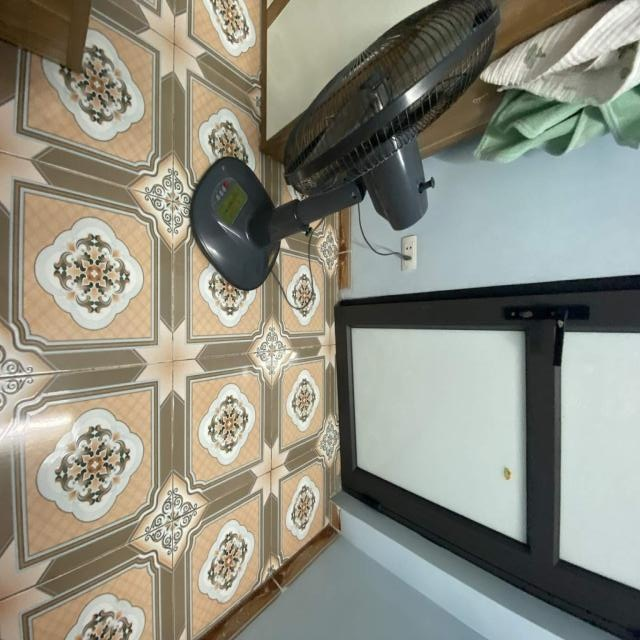outlet: (402, 234, 418, 270)
